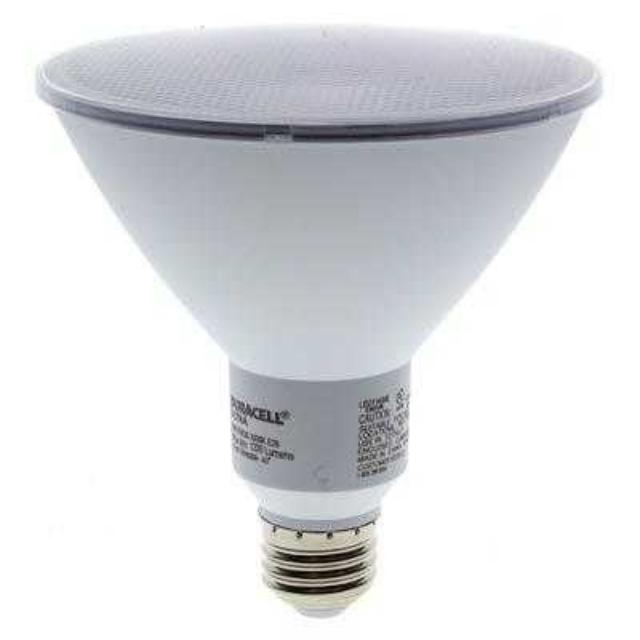light_bulb: (29, 16, 586, 608)
